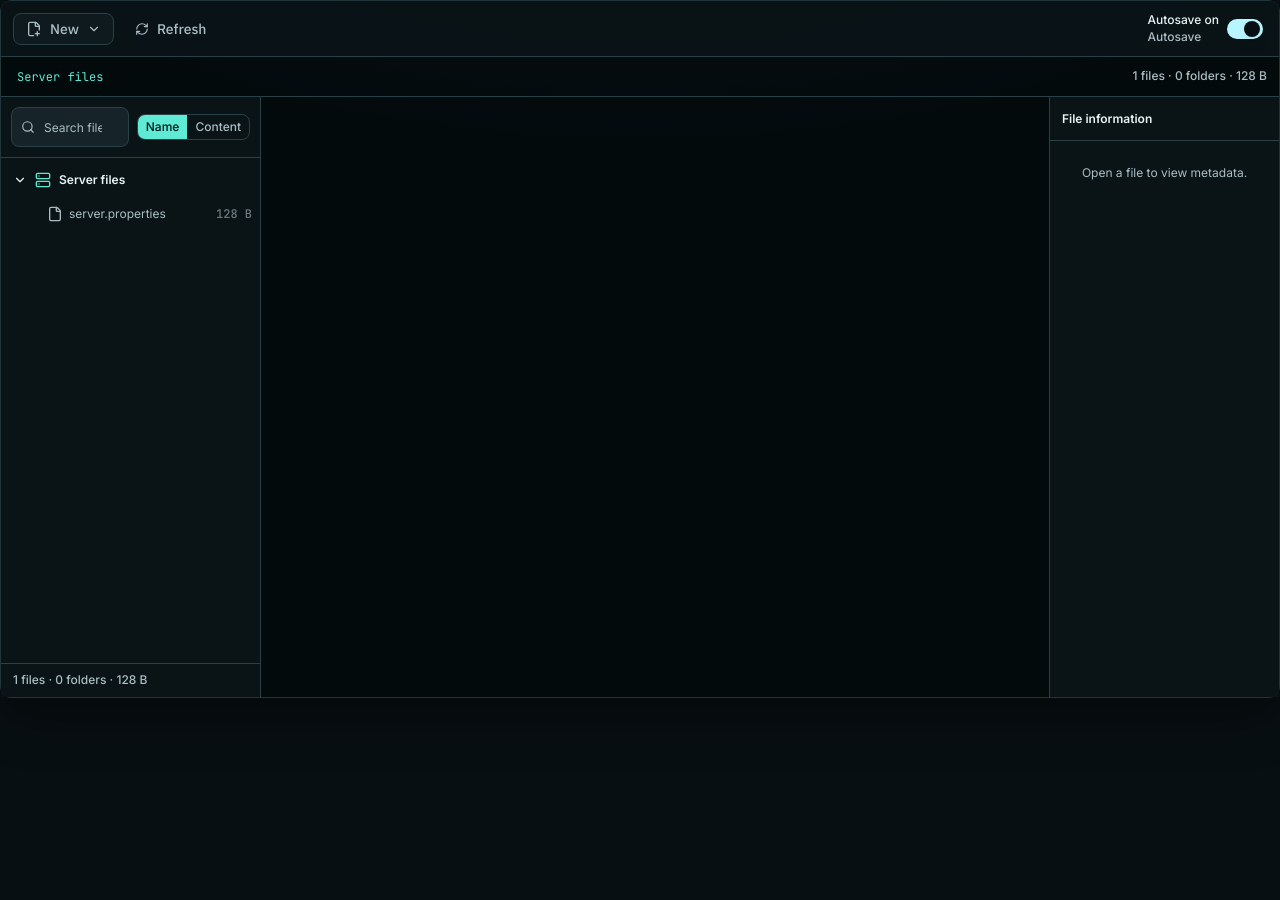
FileManager: Verschieben- und Umbenennen-Dialog › schliesst den Verschieben-Dialog mit Escape, auch wenn der Fokus nicht im Eingabefeld steht
Right-click the text "server.properties" at (117, 214), box [69,206,166,221]
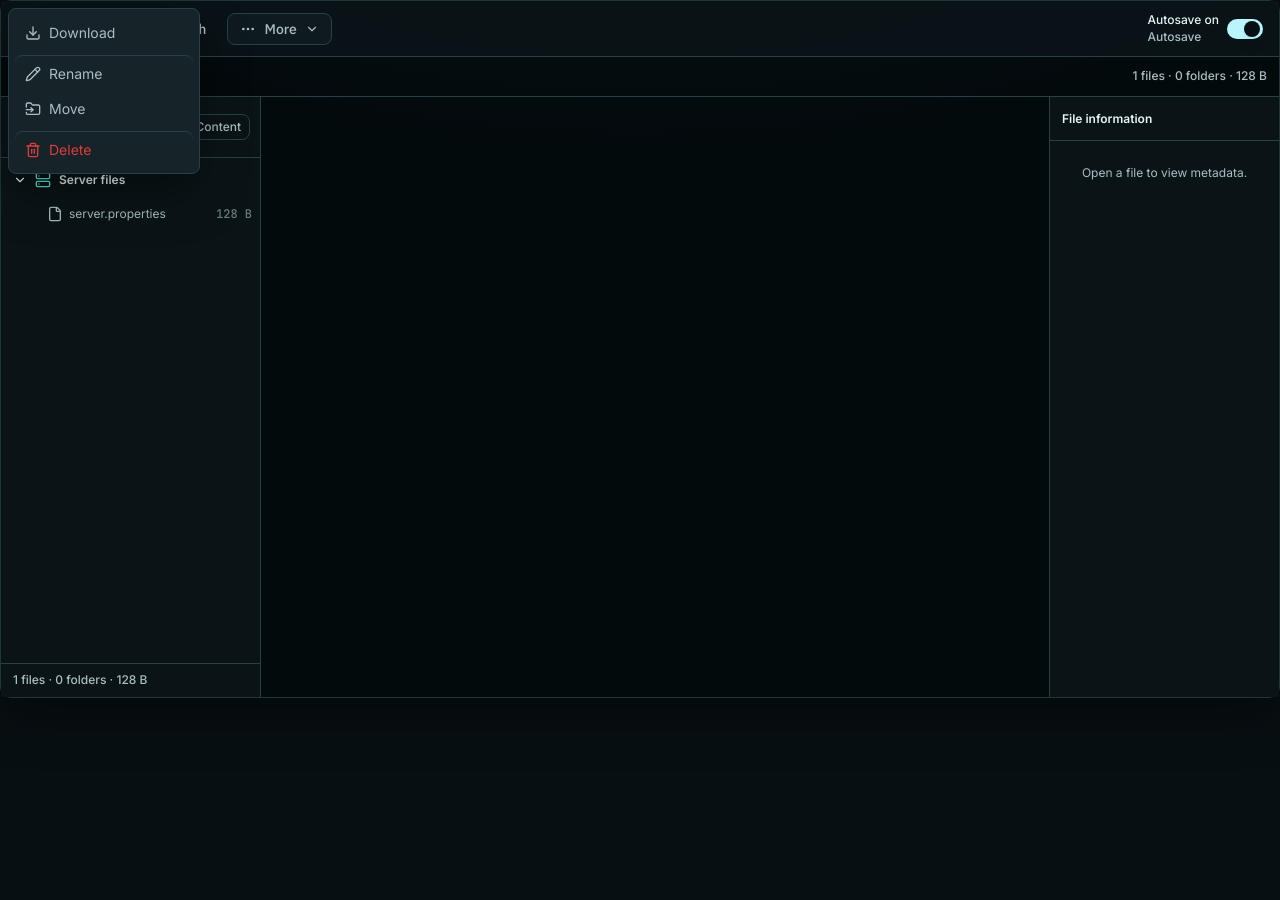
Click the menu item "Move" at (104, 109), box [15,91,193,127]
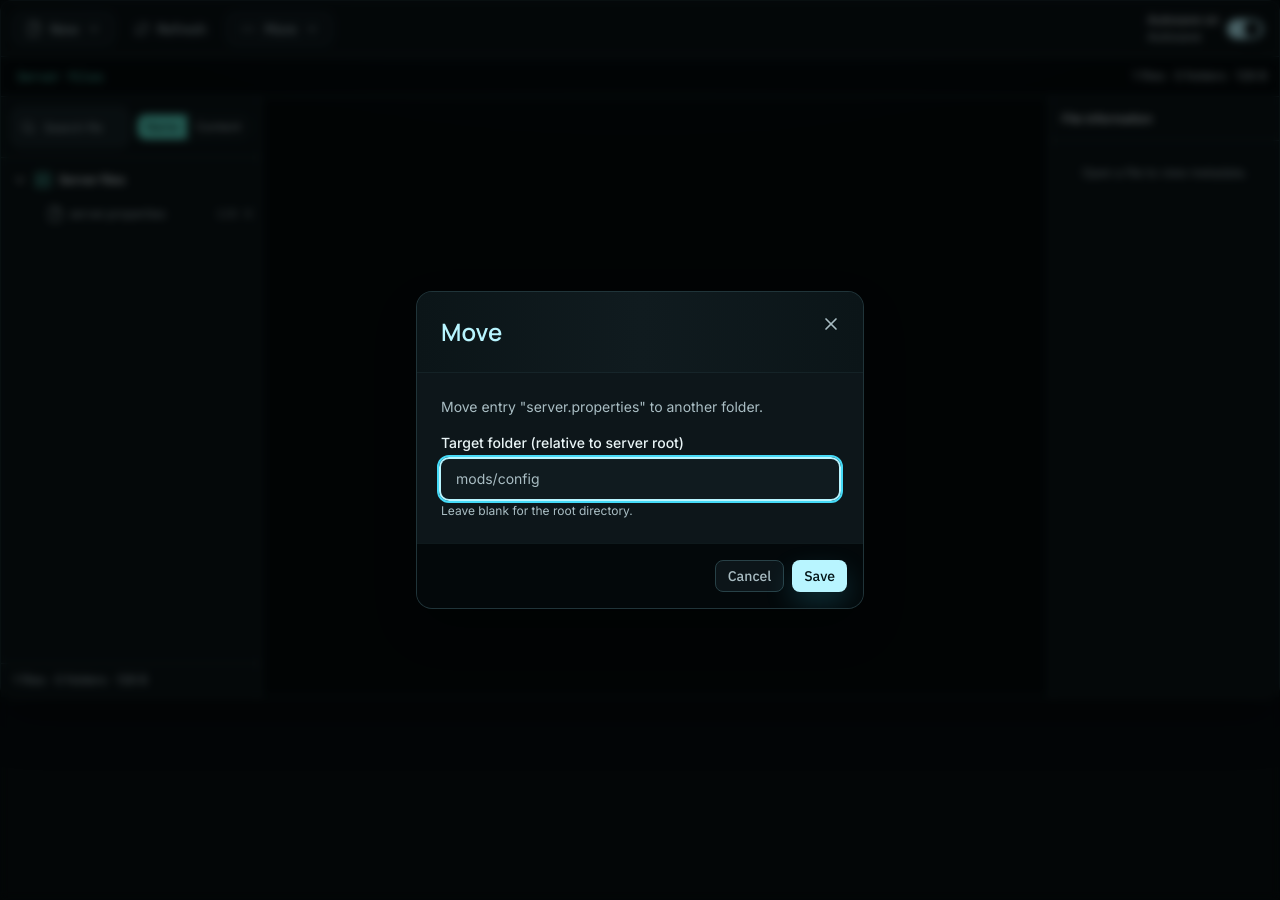
Now the text "Leave blank for the root directory." is shown, box [441,503,633,518]
Press Escape
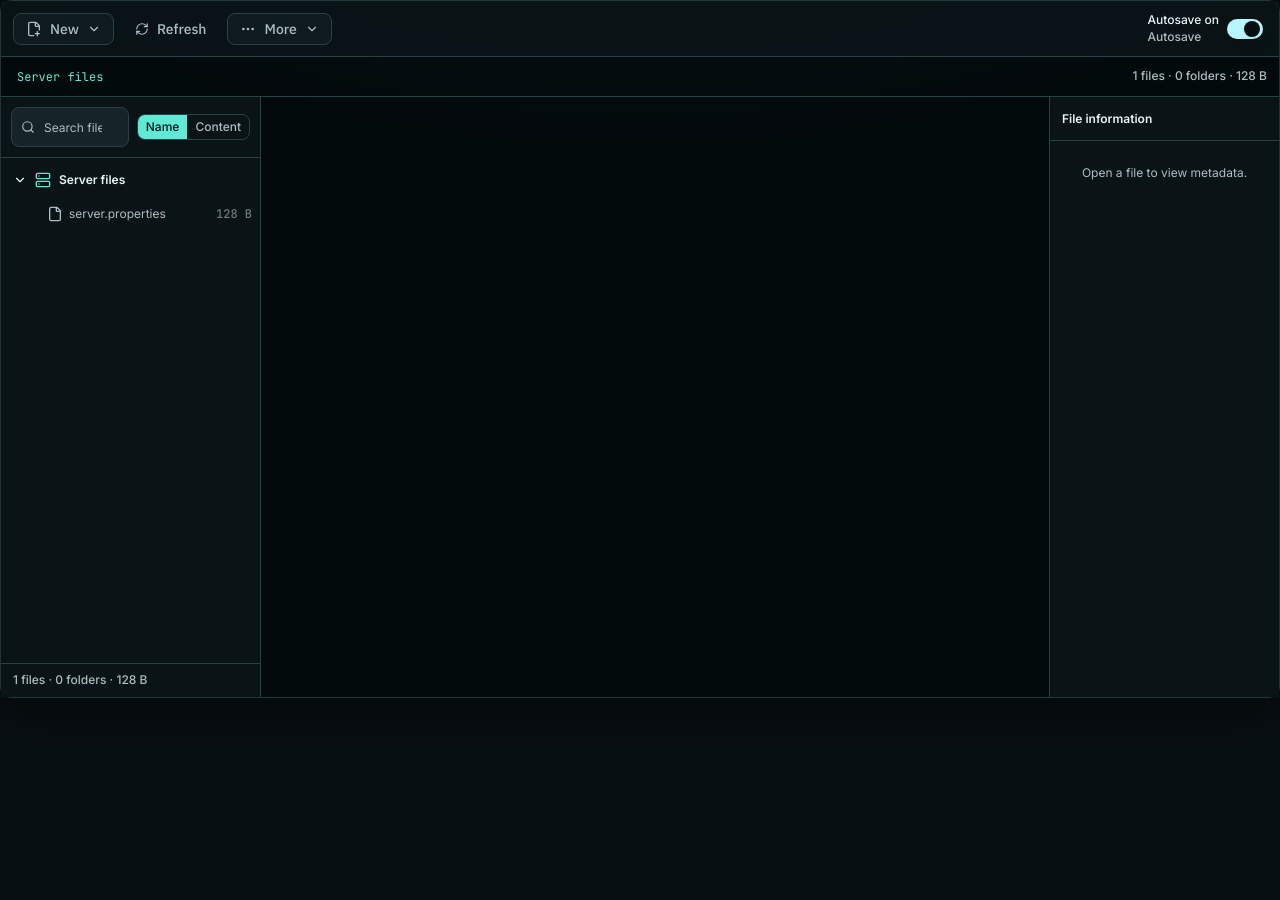
Now the text "Leave blank for the root directory." is gone
